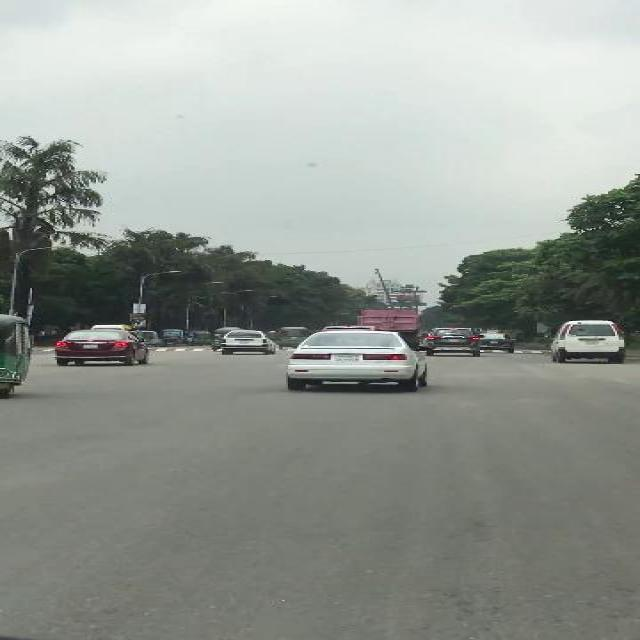vehicle: (289, 346, 421, 390), (51, 329, 150, 365), (551, 320, 628, 365), (1, 315, 33, 400), (422, 328, 483, 359), (354, 310, 420, 335), (222, 331, 274, 356), (483, 332, 518, 354), (276, 328, 306, 349), (192, 331, 212, 347), (145, 332, 163, 348)
